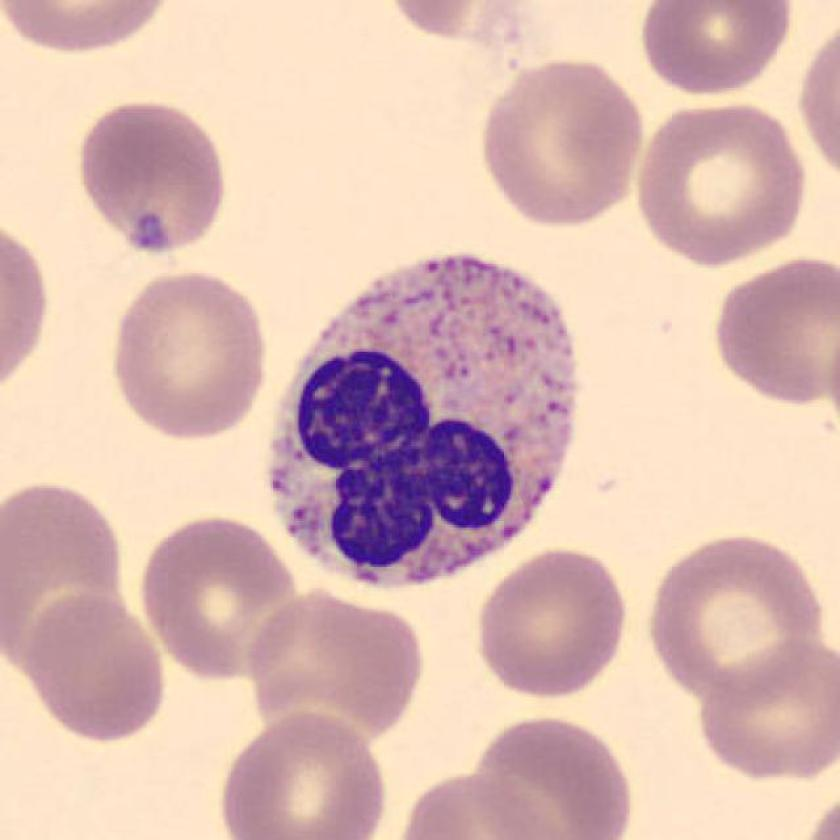neutrophil: (272, 258, 579, 584)
